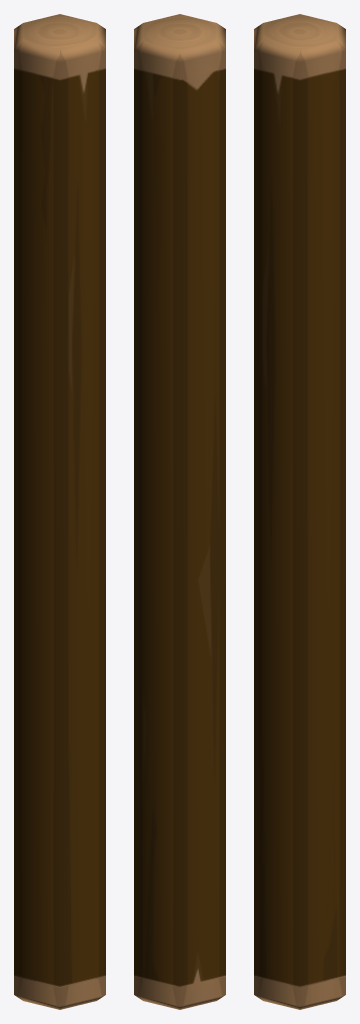
File: mod_building_palisade_pole_2.fbx
3 views of the same model, side by side, from view 1: azimuth 30°, elevation 25°; view 2: azimuth 210°, elevation 25°; view 3: azimuth 330°, elevation 25° (orthographic).
Visible parts, largest first — view 1: mod_building_palisade_pole_b; view 2: mod_building_palisade_pole_b; view 3: mod_building_palisade_pole_b.
Part boxes in pixels (x1,y1,x2,y2): mod_building_palisade_pole_b: (14, 14, 105, 1009); mod_building_palisade_pole_b: (134, 14, 225, 1009); mod_building_palisade_pole_b: (254, 14, 345, 1009).
Bounding box in the file's own units: 38.54 × 385 × 33.38.
